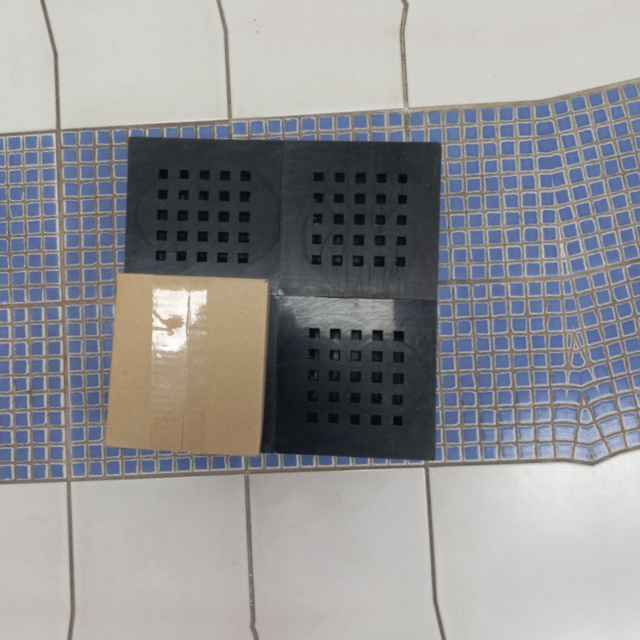box: (102, 270, 271, 457)
pallet: (115, 132, 448, 466)
